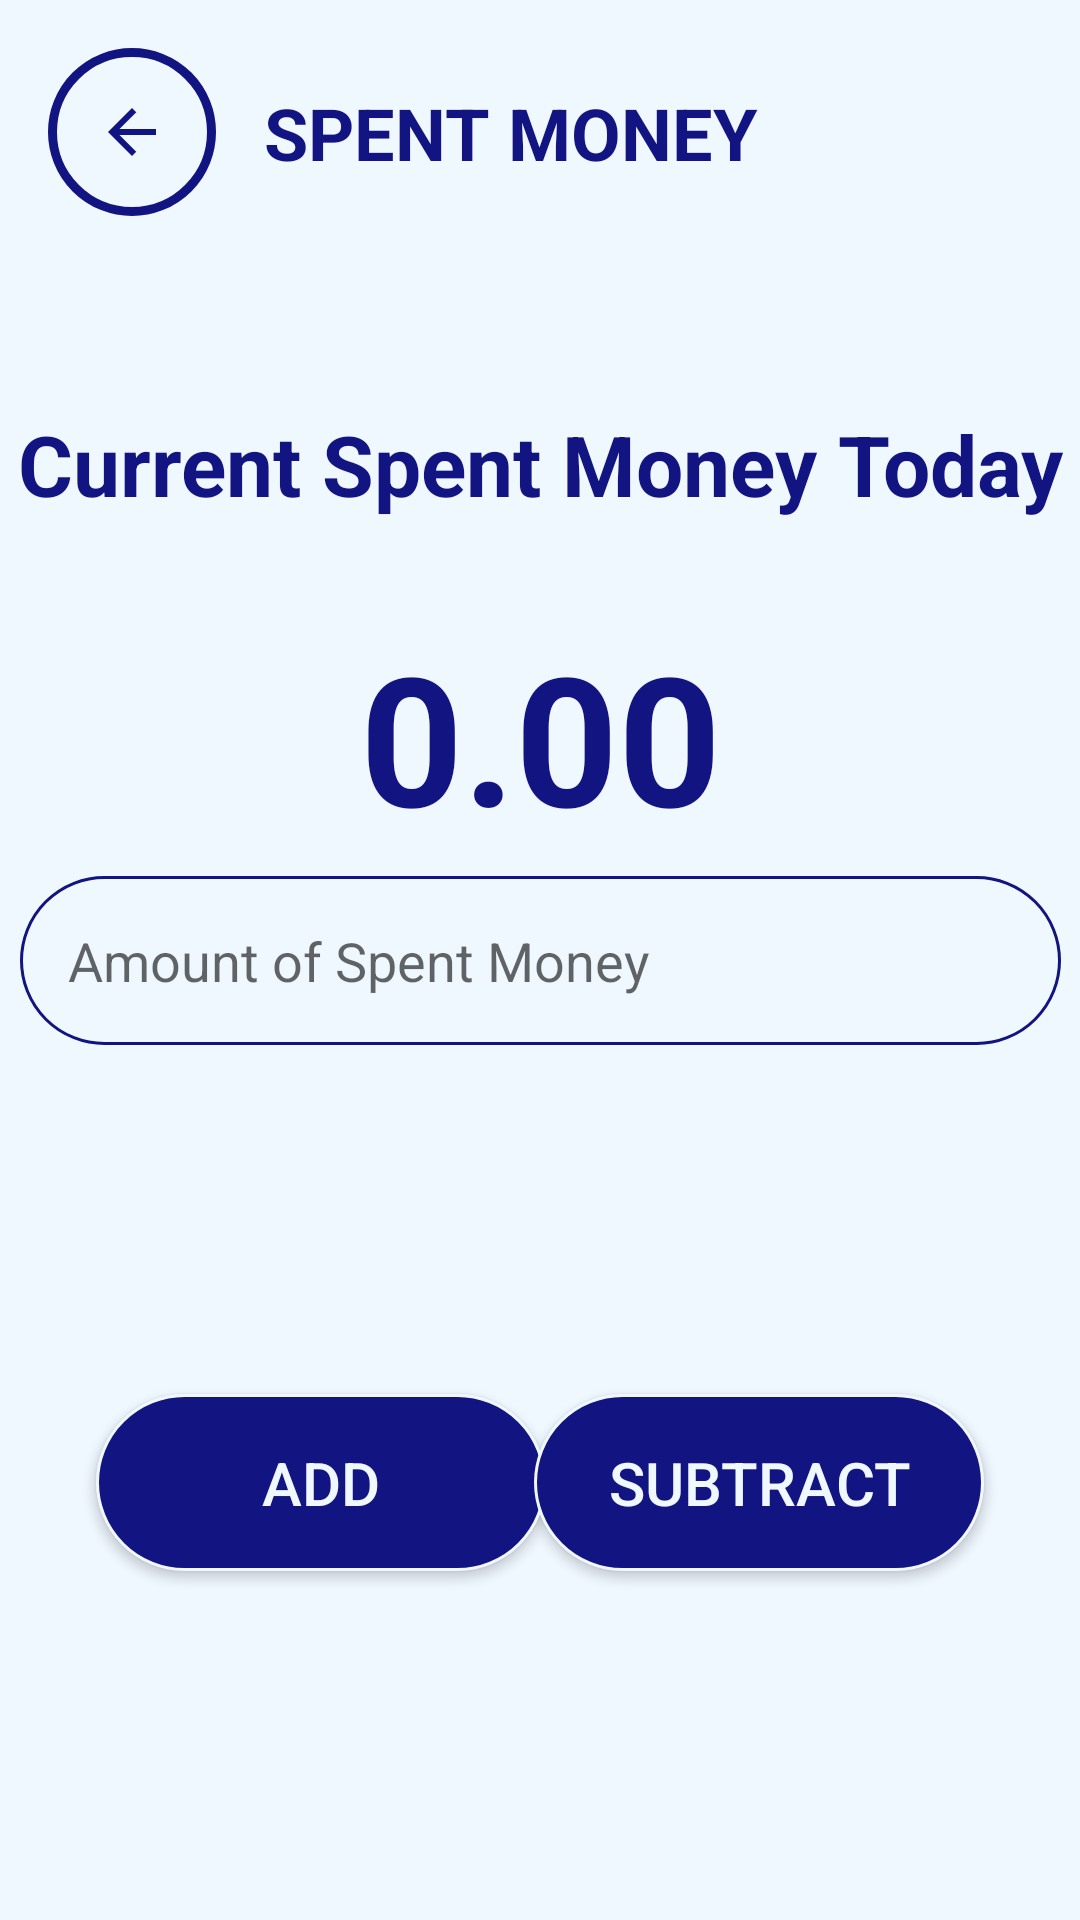

Screen size 1080w x 1920h. Icon name, then its center in pixels as point (x, y):
Back Button: point (132, 132)
